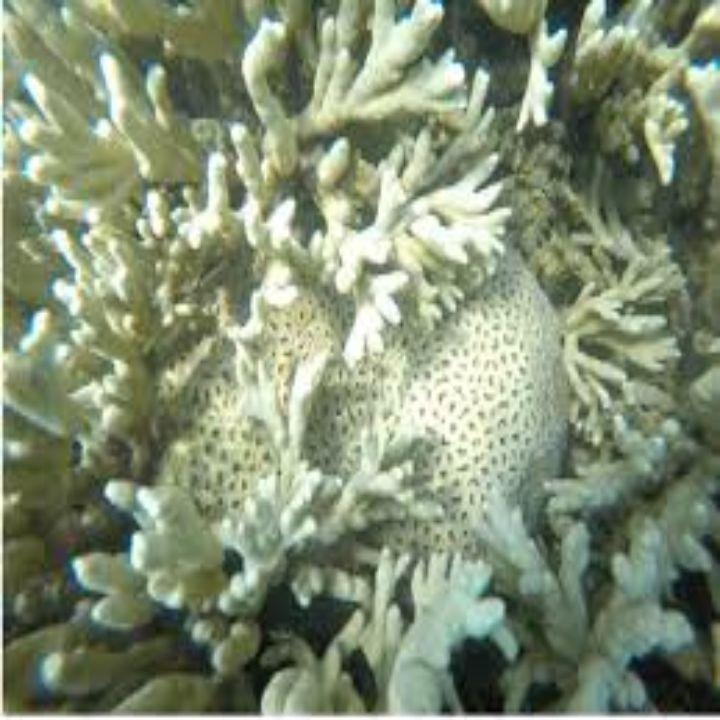Bleached disease: (76, 71, 670, 673)
